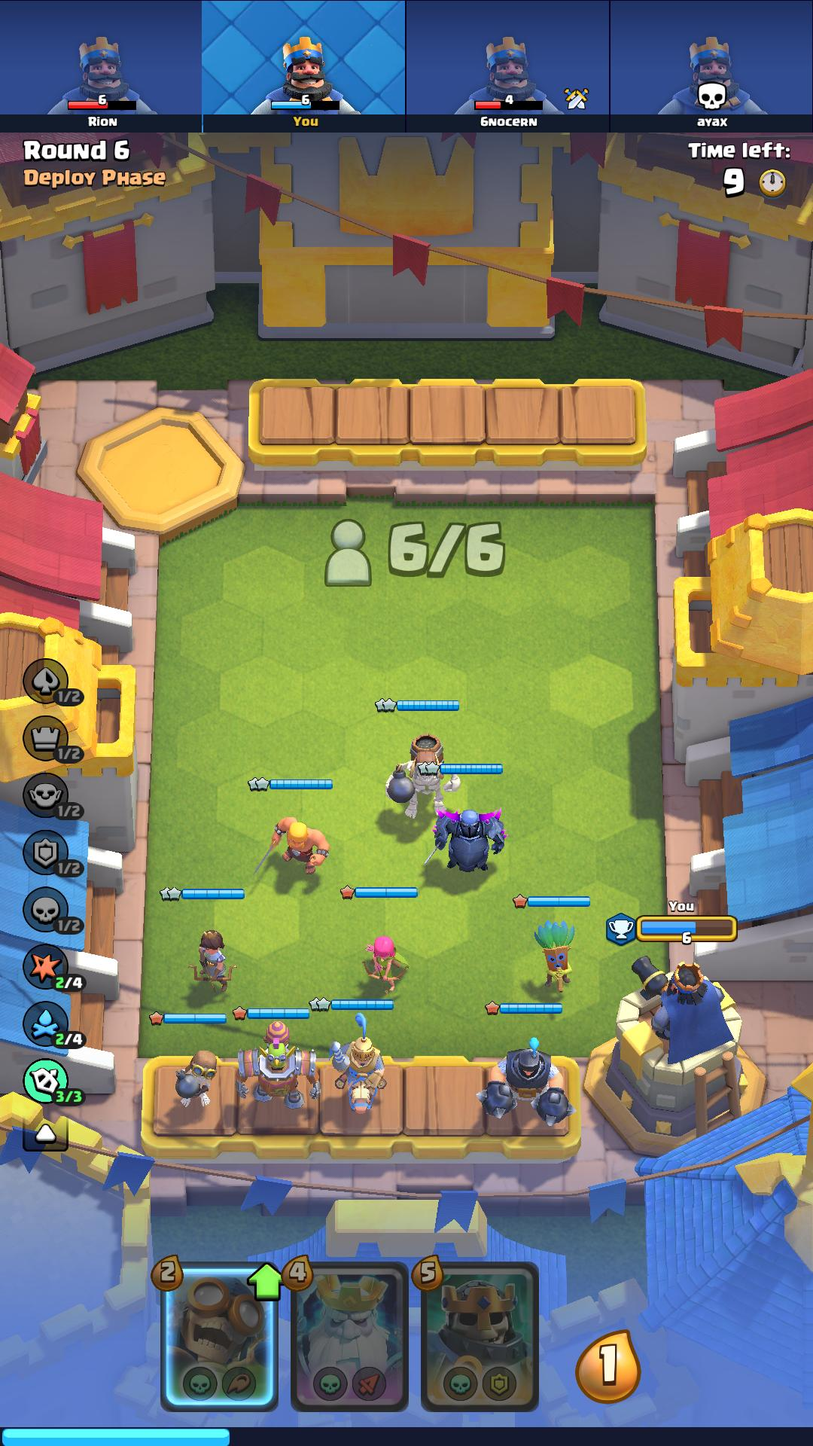archer: (346, 932, 412, 990)
barbarian: (250, 810, 330, 875)
bomber: (164, 1044, 222, 1108)
dart: (522, 913, 580, 992)
giant: (378, 729, 464, 819)
hand-bomber: (162, 1265, 277, 1411)
hand-ghost: (292, 1263, 404, 1408)
hand-king: (423, 1266, 538, 1407)
machine: (229, 1017, 326, 1116)
mega: (464, 1030, 581, 1132)
pekka: (424, 799, 509, 878)
prince: (324, 1012, 392, 1115)
princess: (185, 919, 245, 991)
upgrade: (242, 1257, 289, 1302)
